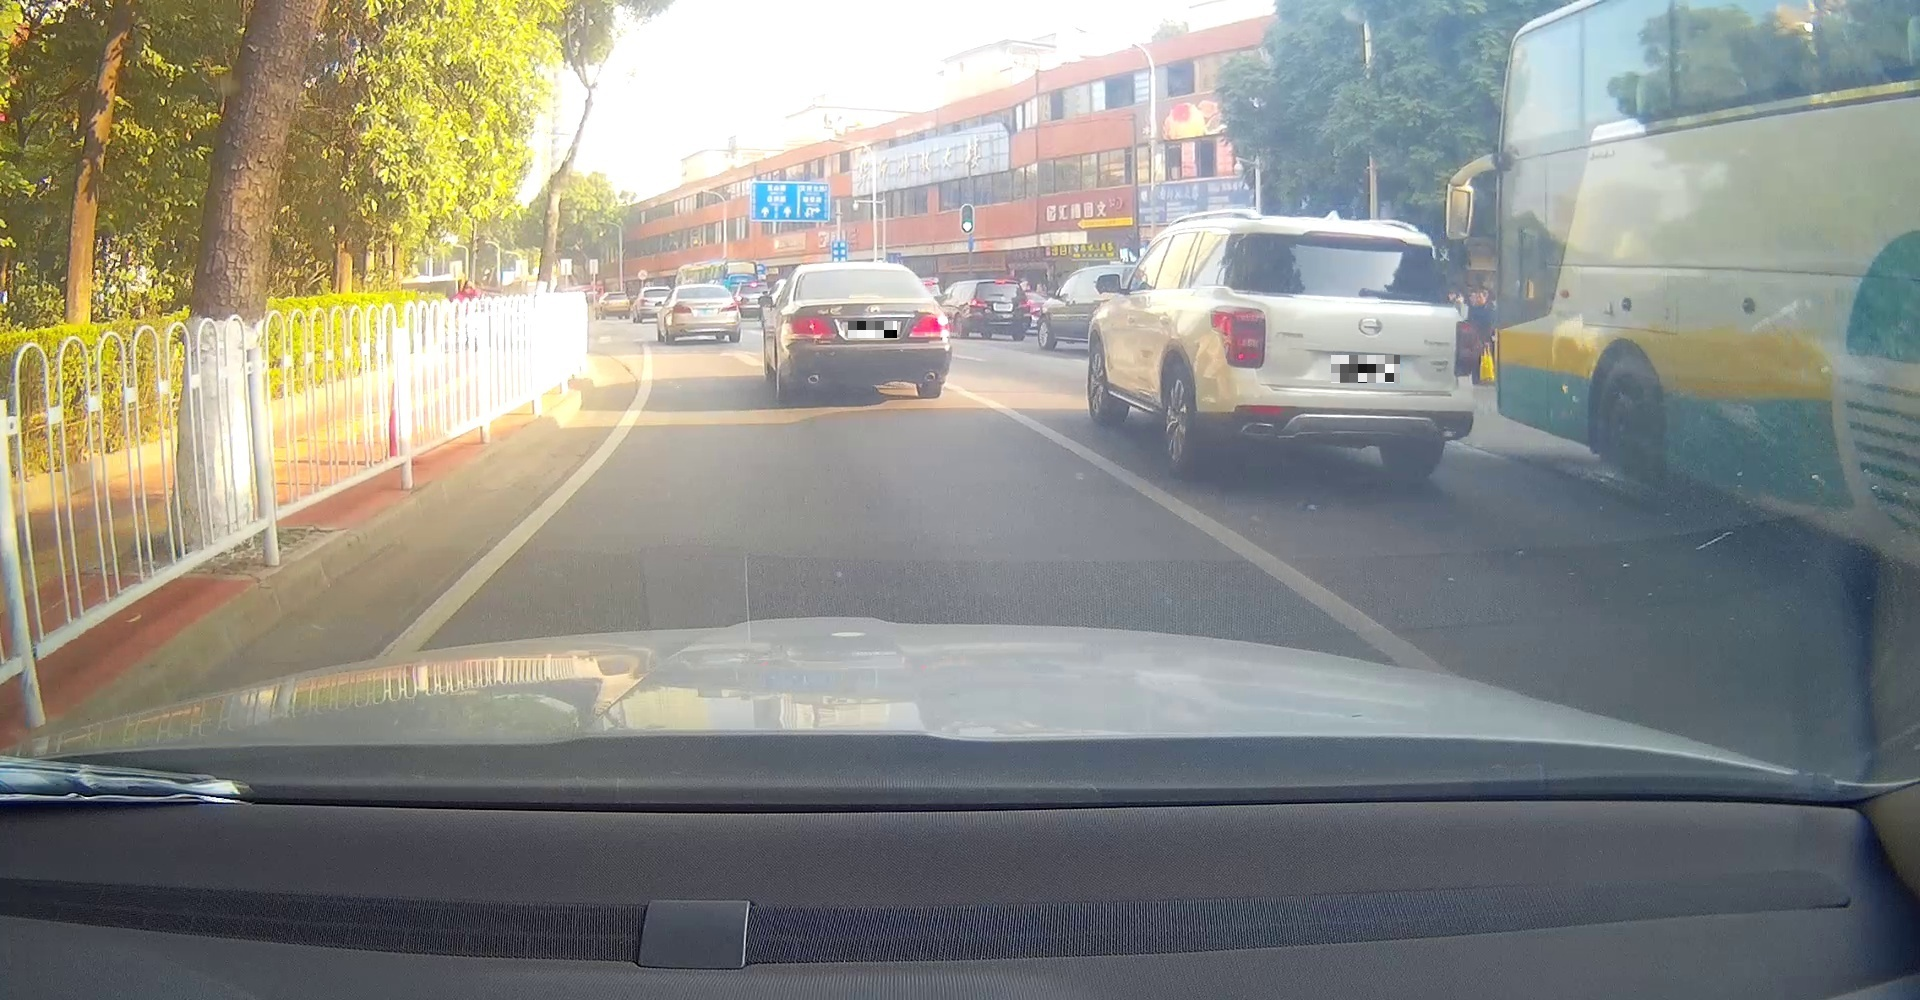L_light: (1210, 305, 1267, 369), (785, 317, 836, 338), (672, 305, 692, 313), (968, 298, 988, 307)
R_light: (1451, 319, 1474, 377), (908, 315, 951, 338), (720, 302, 738, 312), (1016, 299, 1032, 308)
T_light: (1309, 236, 1371, 246), (850, 294, 883, 298), (696, 287, 711, 291), (994, 280, 1006, 284)
day-brake: (969, 279, 1032, 341)
day-no: (1210, 214, 1474, 478), (785, 261, 952, 398), (672, 286, 739, 343)
plate_1: (848, 321, 897, 338)
plate_2: (1331, 355, 1399, 383)
